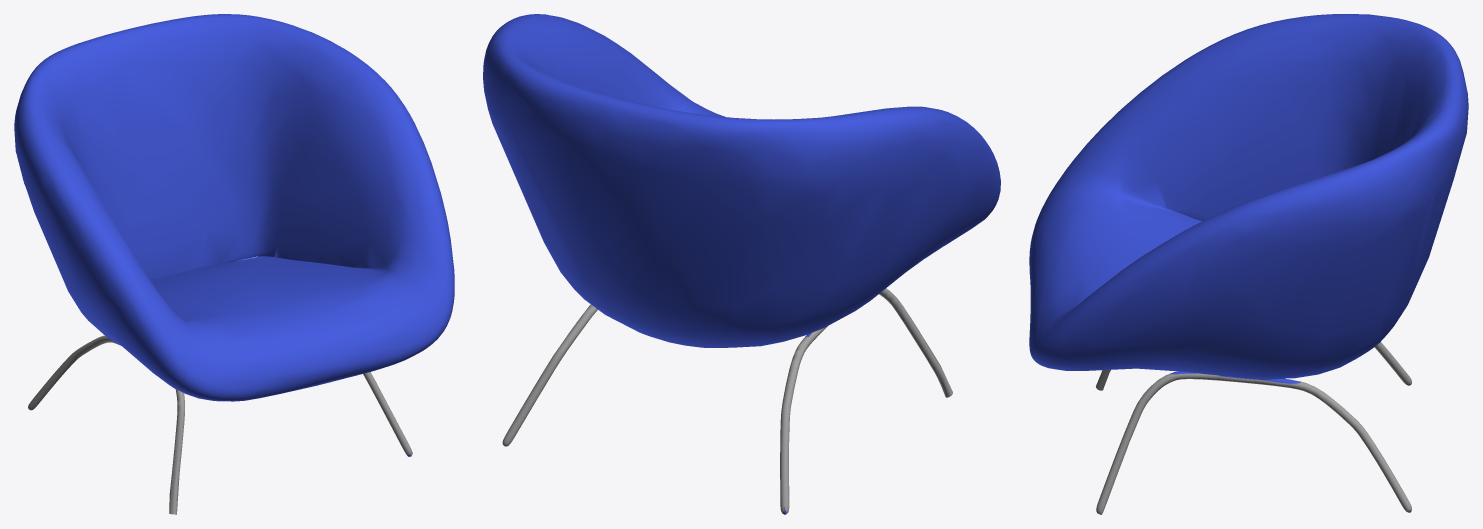
File: bucket-chair.glb
3 renders of one model, left to right at view 1: azimuth 30°, elevation 25°; view 2: azimuth 150°, elevation 25°; view 3: azimuth 270°, elevation 25°, orthographic. The views are drawn at different scales.
Visible parts, largest first — view 1: Bucket_chair_001.001; view 2: Bucket_chair_001.001; view 3: Bucket_chair_001.001.
Boxes of the visible parts, x1,y1,x2,y2 form: Bucket_chair_001.001: (14,14,454,514); Bucket_chair_001.001: (483,14,1000,514); Bucket_chair_001.001: (1029,14,1468,514).
Bounding box in the file's own units: 0.7524 × 0.6865 × 0.7327.
